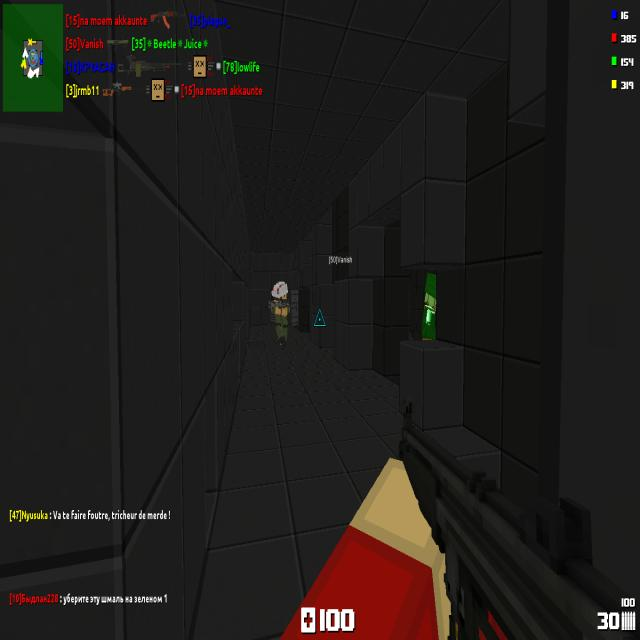enemy: (268, 279, 291, 348), (421, 270, 436, 342)
